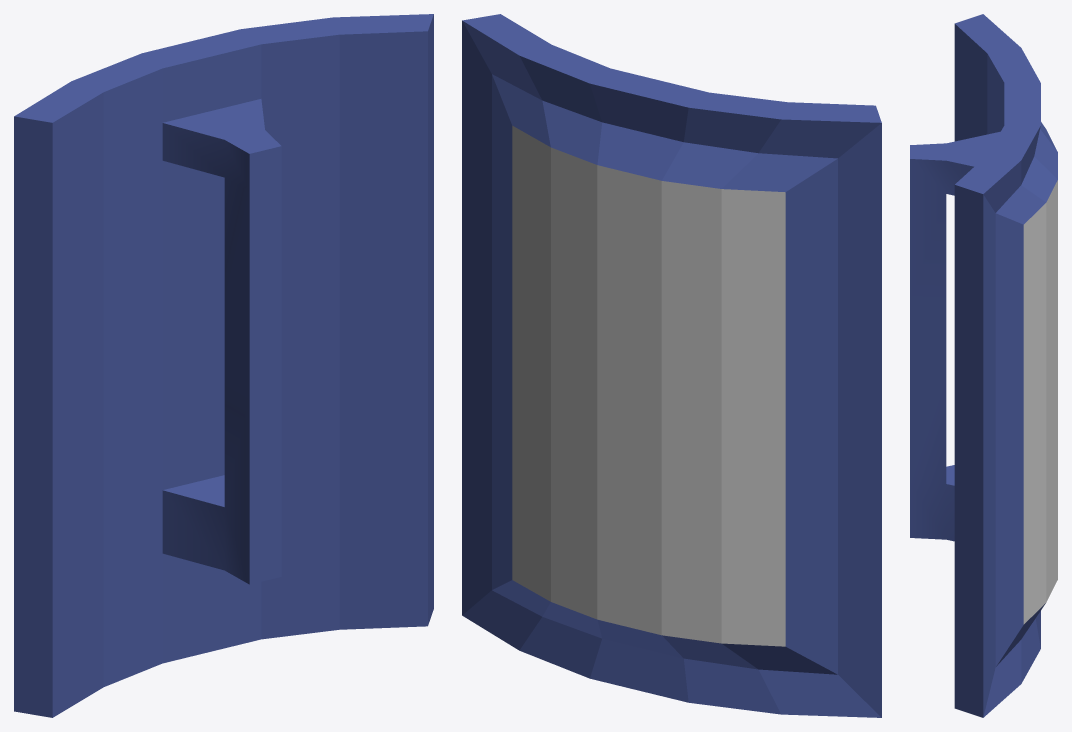
Rendered from Shield_Proto_Prop.fbx.
3 views of the same model, side by side, from view 1: azimuth 30°, elevation 25°; view 2: azimuth 150°, elevation 25°; view 3: azimuth 270°, elevation 25° (orthographic). The views are drawn at different scales.
Visible parts, largest first — view 1: polySurface1; view 2: polySurface1; view 3: polySurface1.
Boxes of the visible parts, x1,y1,x2,y2 form: polySurface1: (14, 14, 433, 717); polySurface1: (462, 14, 881, 717); polySurface1: (910, 14, 1057, 717).
Size of the model in its own units: 2 by 2.7 by 0.6908.
